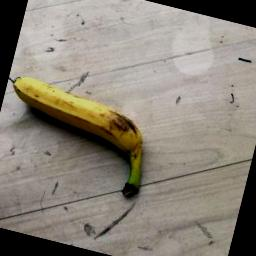Banana Ripe: (0, 72, 159, 196)
